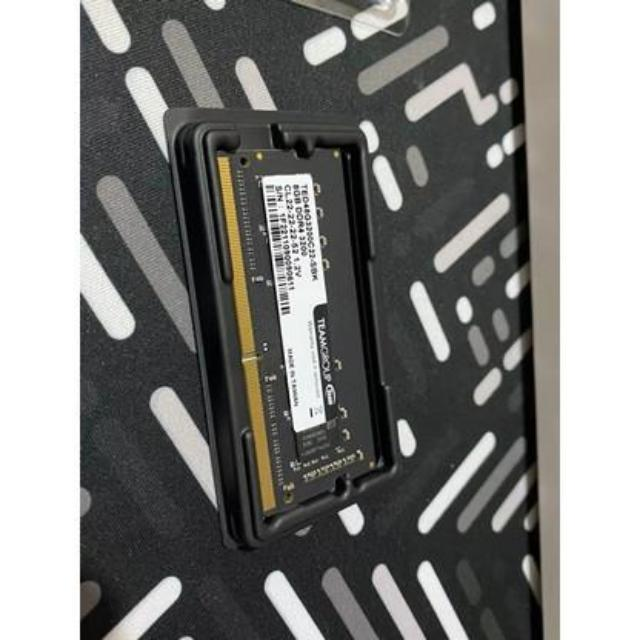RAM: (212, 140, 382, 515)
